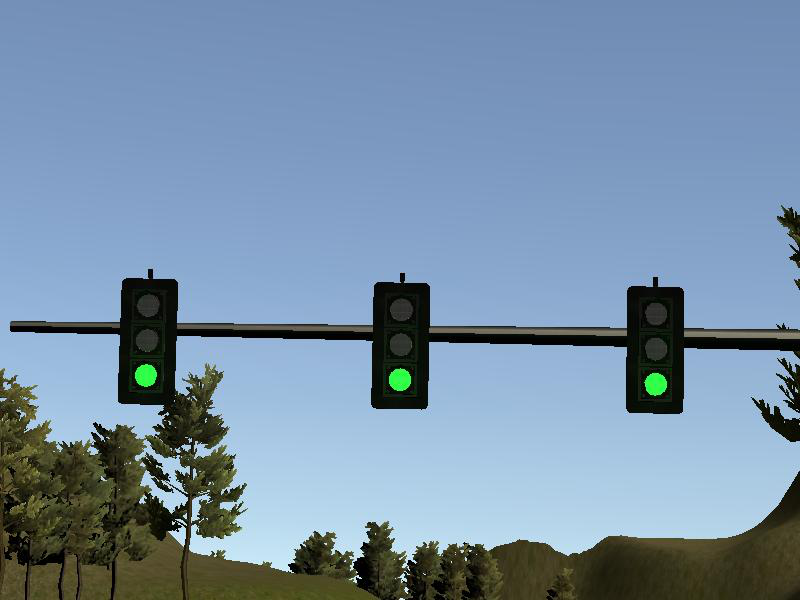green: (627, 285, 685, 417), (371, 280, 430, 408), (120, 277, 178, 405)
